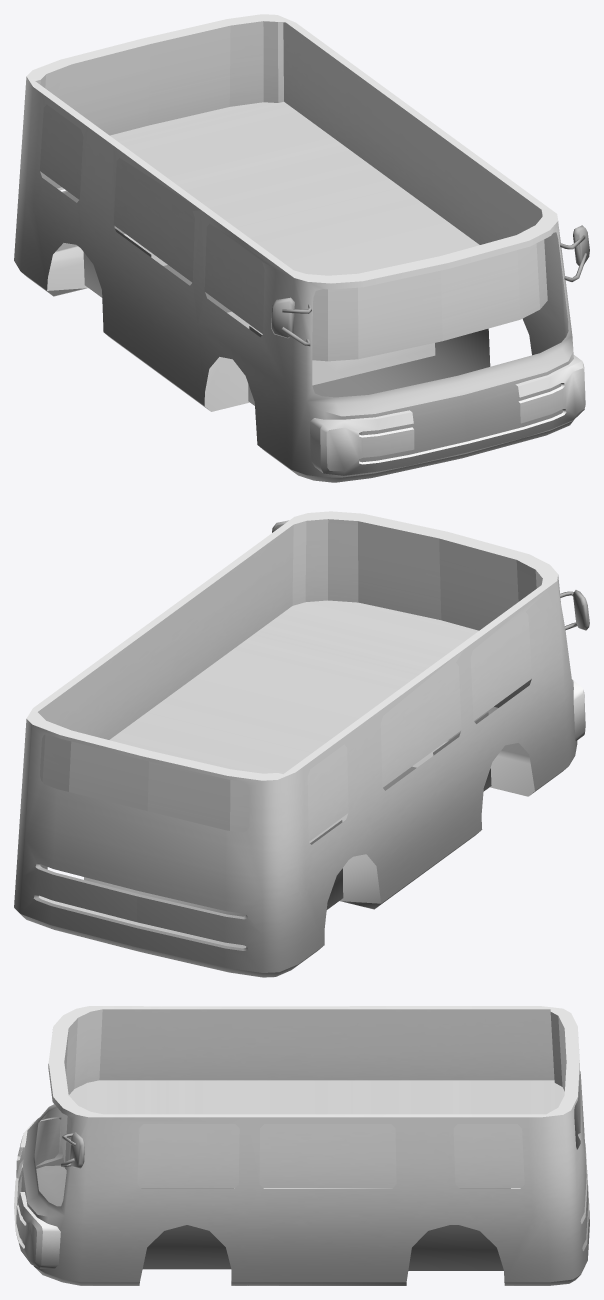
The model's file is van_color_body.fbx.
3 views of the same model, one above another, from view 1: azimuth 30°, elevation 25°; view 2: azimuth 150°, elevation 25°; view 3: azimuth 270°, elevation 25° (orthographic). The views are drawn at different scales.
Visible parts, largest first — view 1: van_color_body; view 2: van_color_body; view 3: van_color_body.
Boxes of the visible parts, bbox=[...] form: van_color_body: bbox=[14, 14, 589, 482]; van_color_body: bbox=[14, 511, 589, 977]; van_color_body: bbox=[14, 1006, 589, 1285].
Size of the model in its own units: 77.92 by 45.45 by 141.
